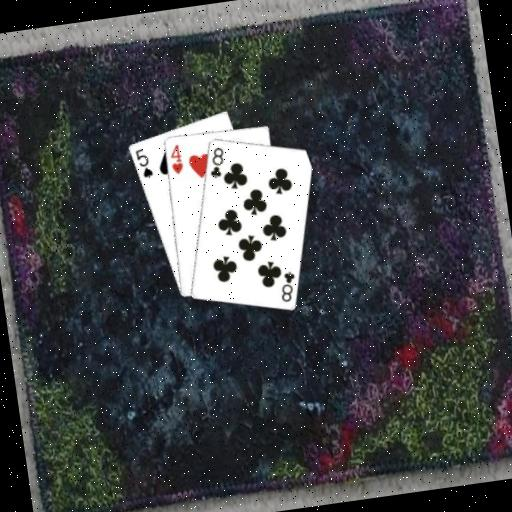4H: (165, 142, 185, 177)
5S: (132, 144, 155, 181)
8C: (275, 267, 300, 305), (204, 143, 229, 180)
